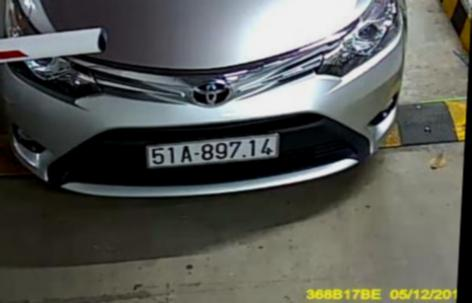License_Plate: (144, 132, 292, 179)
